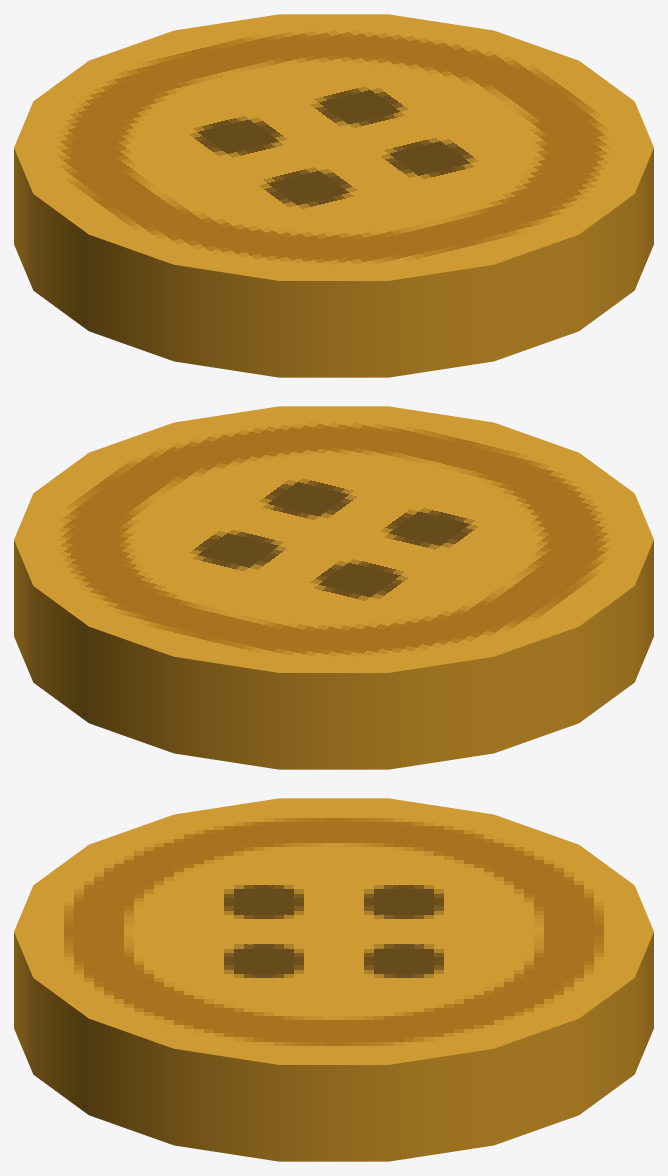
File: sock_button.glb
3 renders of one model, top to bottom at view 1: azimuth 30°, elevation 25°; view 2: azimuth 150°, elevation 25°; view 3: azimuth 270°, elevation 25°, orthographic.
Visible parts, largest first — view 1: sock_button_cap, sock_button_side; view 2: sock_button_cap, sock_button_side; view 3: sock_button_cap, sock_button_side.
Boxes of the visible parts, x1,y1,x2,y2 form: sock_button_cap: (14, 14, 653, 280); sock_button_side: (14, 148, 653, 377); sock_button_cap: (14, 406, 653, 672); sock_button_side: (14, 540, 653, 769); sock_button_cap: (14, 798, 653, 1064); sock_button_side: (14, 932, 653, 1161).
Size of the model in its own units: 0.0591 by 0.01 by 0.06.
Materials: 2 (1 with a texture image).
